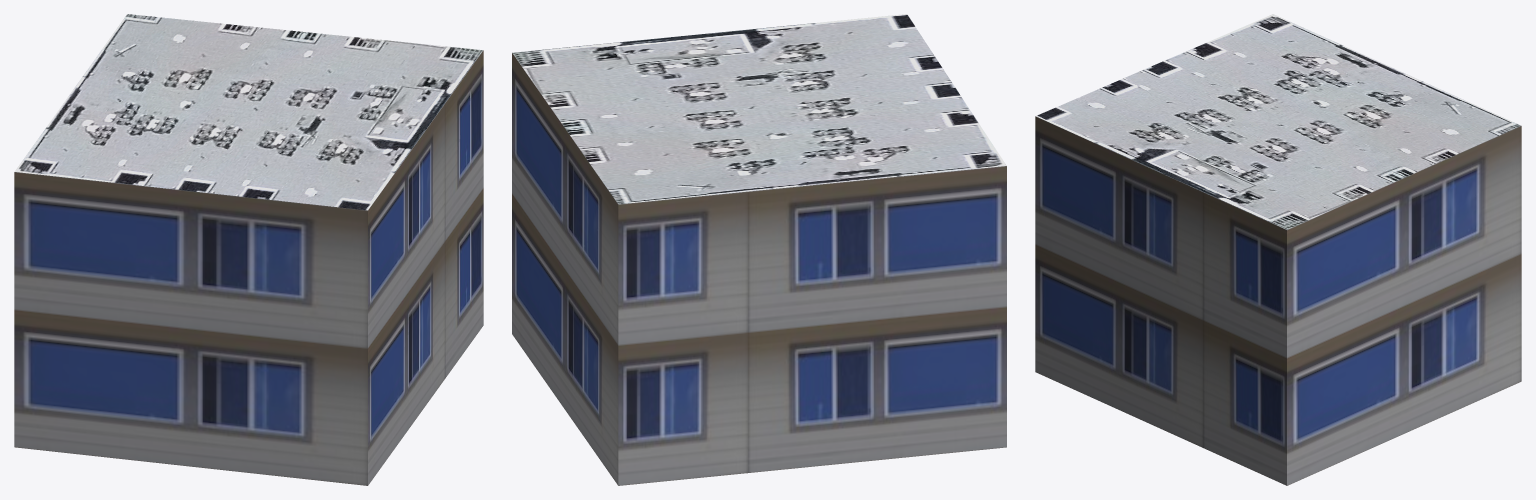
File: ResTex__1638.fbx
3 views of the same model, side by side, from view 1: azimuth 30°, elevation 25°; view 2: azimuth 150°, elevation 25°; view 3: azimuth 270°, elevation 25° (orthographic). The views are drawn at different scales.
Parts seen in each view (by area): view 1: CityEngineMaterial_23_m, CityEngineMaterial_8_m; view 2: CityEngineMaterial_23_m, CityEngineMaterial_8_m; view 3: CityEngineMaterial_23_m, CityEngineMaterial_8_m.
Boxes of the visible parts, bbox=[...] form: CityEngineMaterial_23_m: bbox=[14, 50, 483, 485]; CityEngineMaterial_8_m: bbox=[14, 14, 483, 210]; CityEngineMaterial_23_m: bbox=[512, 53, 1006, 485]; CityEngineMaterial_8_m: bbox=[512, 14, 1006, 204]; CityEngineMaterial_23_m: bbox=[1035, 116, 1521, 485]; CityEngineMaterial_8_m: bbox=[1036, 14, 1520, 229].
Size of the model in its own units: 10.86 by 6 by 10.33.
Materials: 2 (2 with a texture image).
